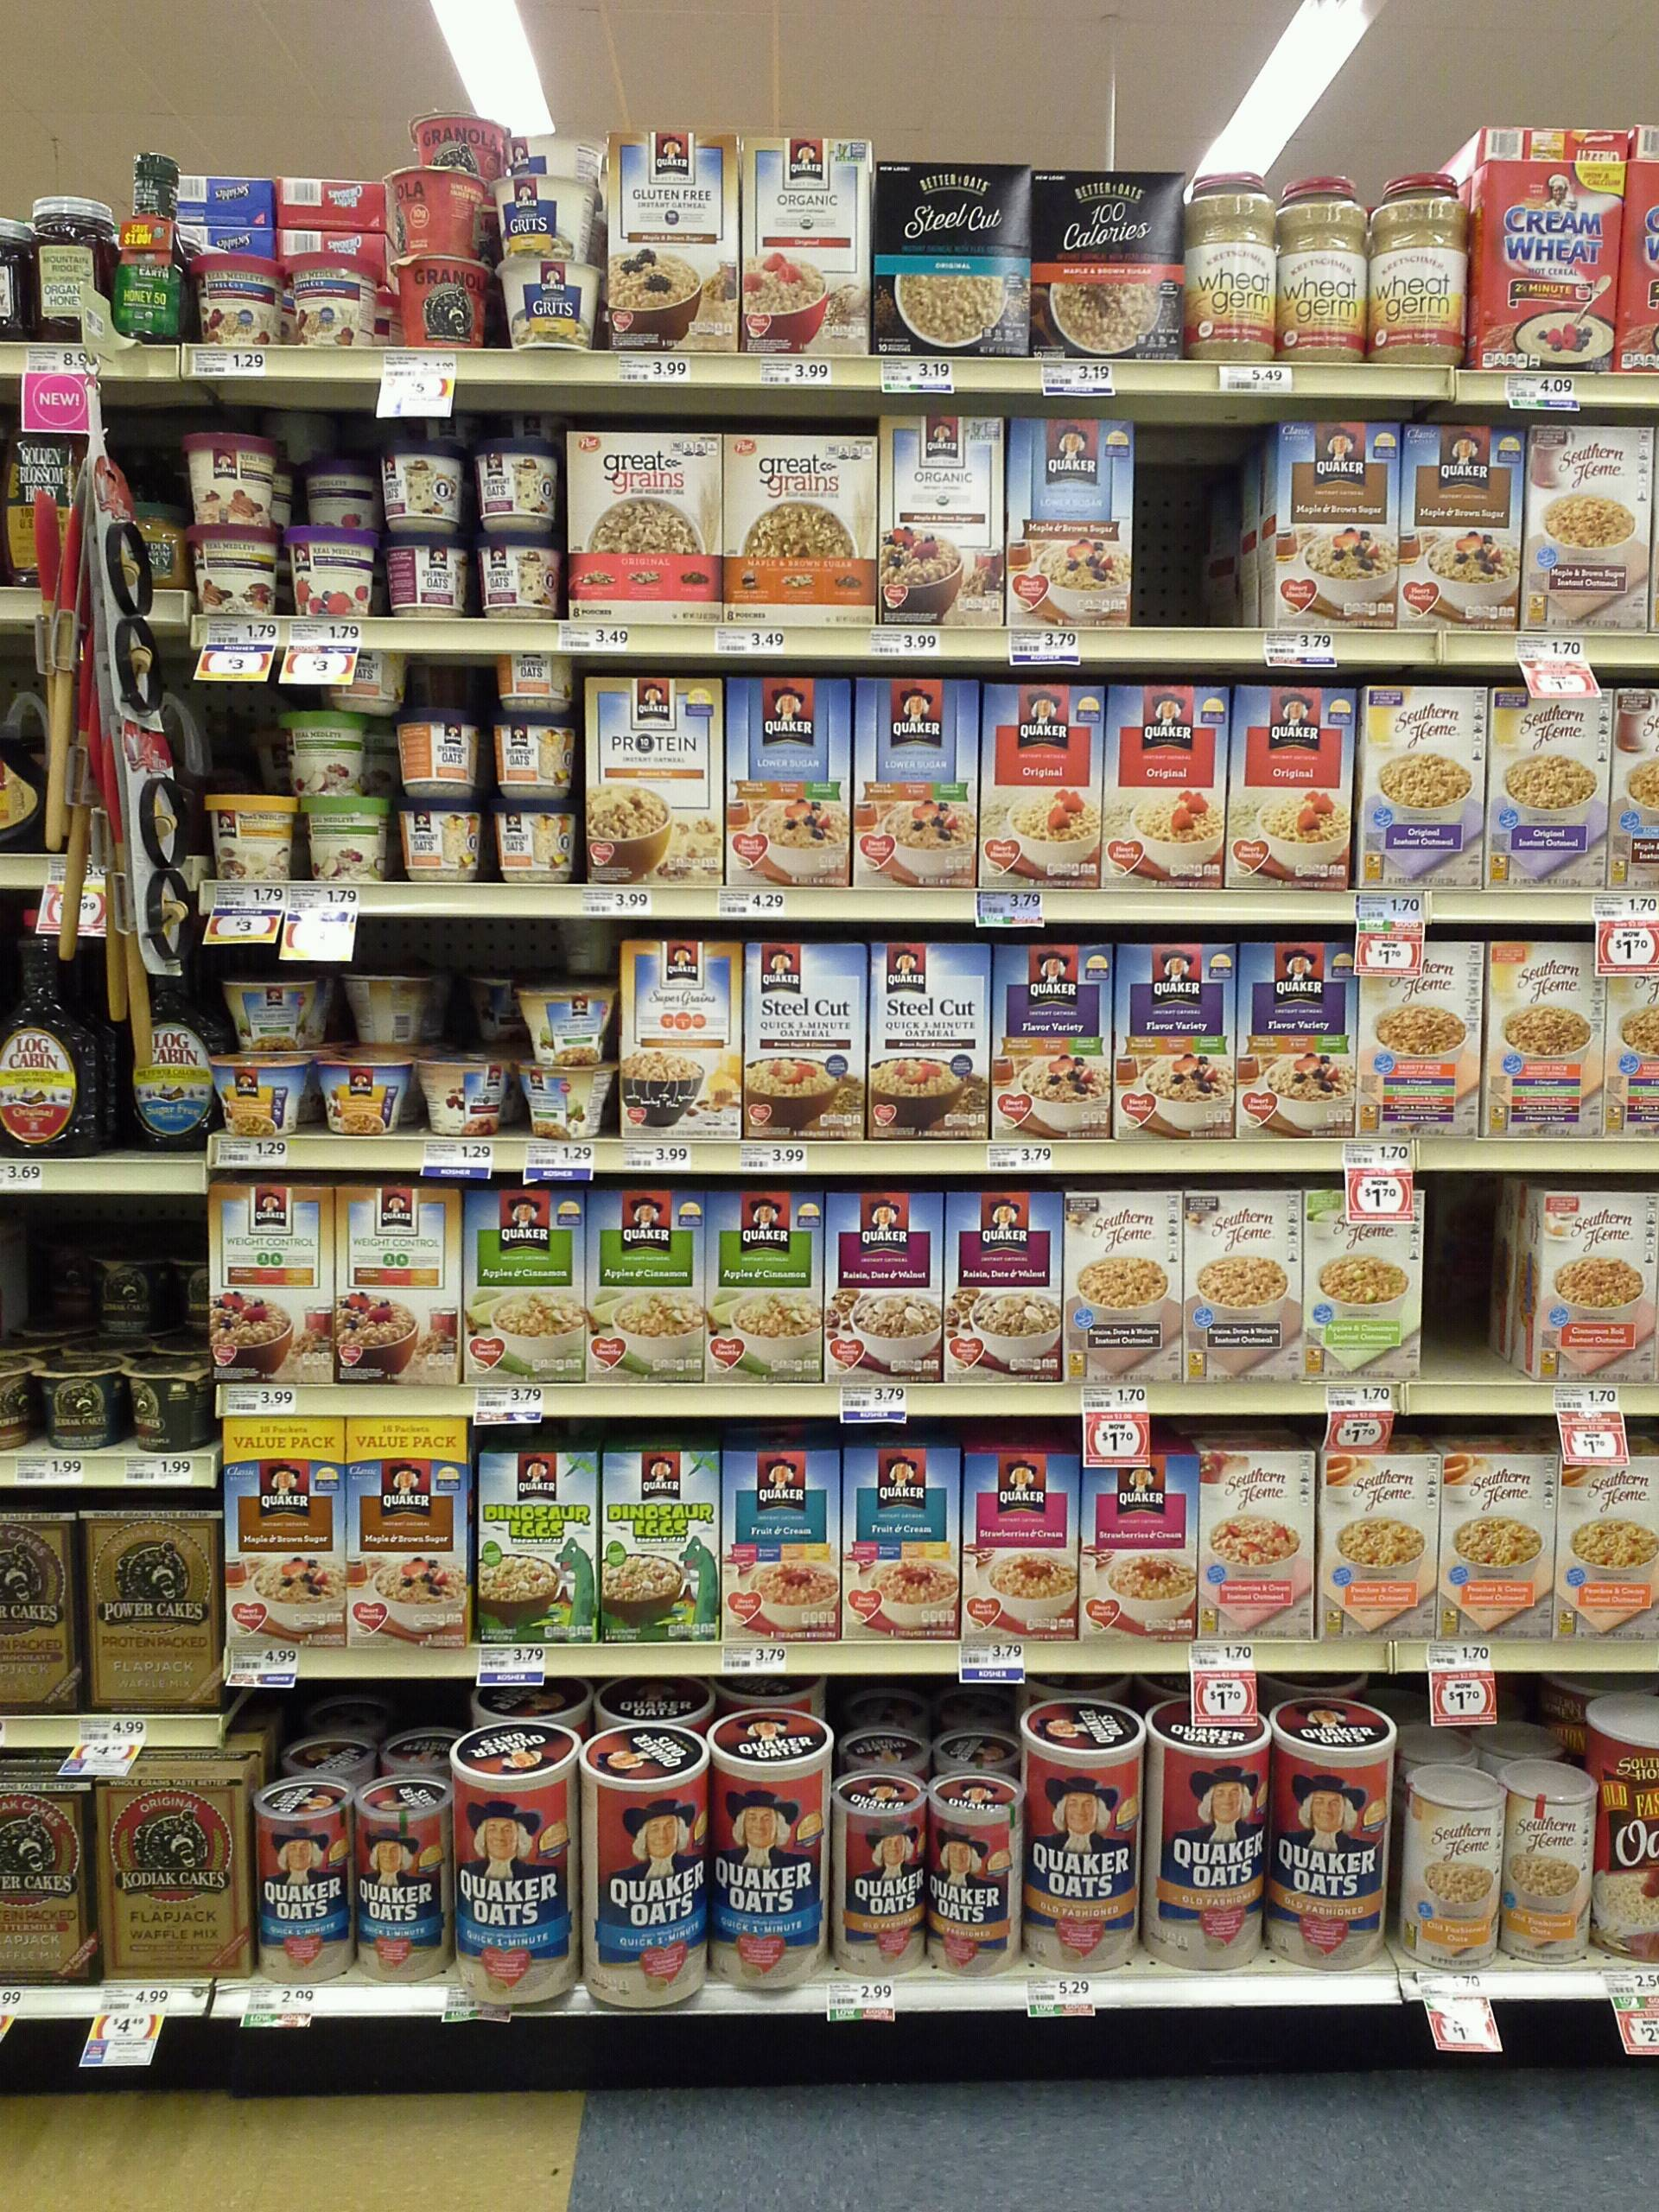Misplacement: (210, 965, 523, 1135)
Out-of-stock: (1136, 424, 1274, 628)
